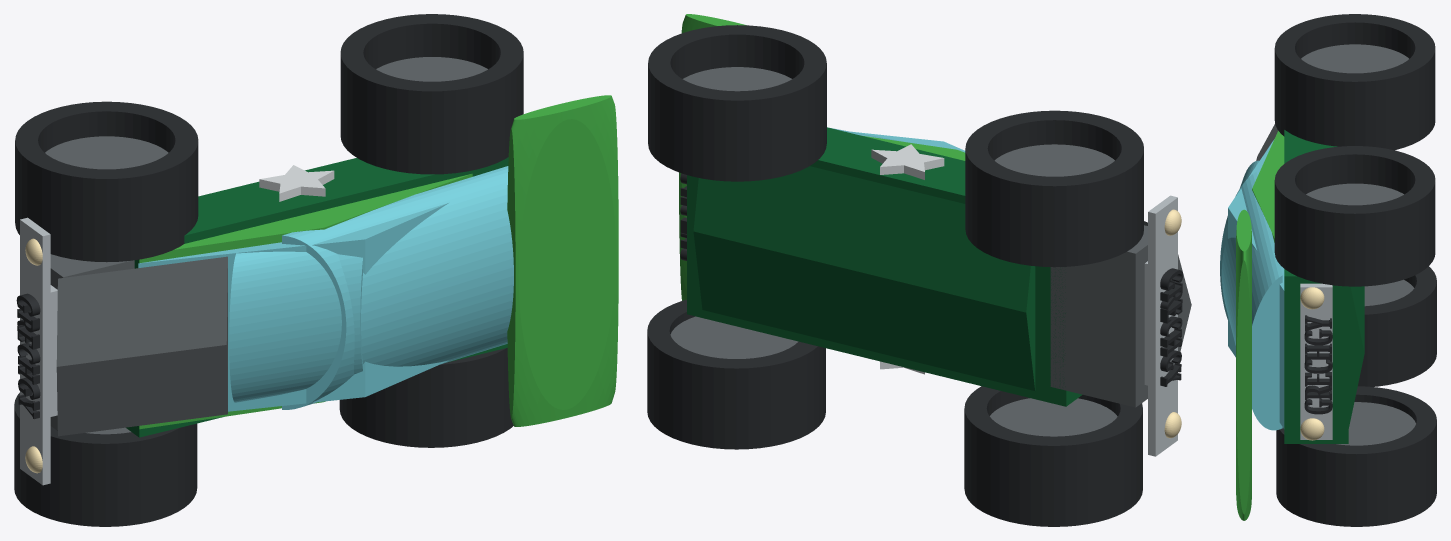
File: tinker.obj
3 views of the same model, side by side, from view 1: azimuth 30°, elevation 25°; view 2: azimuth 150°, elevation 25°; view 3: azimuth 270°, elevation 25° (orthographic). The views are drawn at different scales.
Visible parts, largest first — view 1: obj_27, obj_12, obj_10, obj_5, obj_4, obj_13, obj_0, obj_1, obj_8, obj_11, obj_20, obj_9 (+6 smaller); view 2: obj_15, obj_5, obj_4, obj_0, obj_1, obj_14, obj_8, obj_20, obj_3, obj_2, obj_7, obj_26 (+3 smaller); view 3: obj_5, obj_4, obj_1, obj_12, obj_0, obj_8, obj_27, obj_17, obj_7, obj_2, obj_25, obj_11 (+7 smaller).
Boxes of the visible parts, x1=… form: obj_27: x1=507, y1=95, x2=618, y2=426; obj_12: x1=282, y1=166, x2=513, y2=409; obj_10: x1=56, y1=256, x2=227, y2=436; obj_5: x1=340, y1=14, x2=523, y2=174; obj_4: x1=15, y1=101, x2=198, y2=262; obj_13: x1=229, y1=251, x2=362, y2=402; obj_0: x1=14, y1=392, x2=197, y2=526; obj_1: x1=339, y1=348, x2=513, y2=447; obj_8: x1=126, y1=157, x2=508, y2=437; obj_11: x1=138, y1=203, x2=448, y2=411; obj_20: x1=20, y1=217, x2=50, y2=485; obj_9: x1=139, y1=173, x2=472, y2=429; obj_15: x1=693, y1=166, x2=1035, y2=390; obj_5: x1=648, y1=25, x2=826, y2=181; obj_4: x1=965, y1=110, x2=1143, y2=267; obj_0: x1=964, y1=386, x2=1142, y2=526; obj_1: x1=647, y1=299, x2=825, y2=449; obj_14: x1=1050, y1=225, x2=1147, y2=407; obj_8: x1=687, y1=127, x2=1082, y2=406; obj_20: x1=1148, y1=195, x2=1177, y2=456; obj_3: x1=990, y1=398, x2=1117, y2=436; obj_2: x1=670, y1=316, x2=798, y2=358; obj_7: x1=994, y1=144, x2=1114, y2=176; obj_26: x1=1160, y1=268, x2=1182, y2=386; obj_5: x1=1274, y1=146, x2=1435, y2=286; obj_4: x1=1274, y1=14, x2=1435, y2=150; obj_1: x1=1276, y1=386, x2=1436, y2=526; obj_12: x1=1220, y1=172, x2=1282, y2=430; obj_0: x1=1358, y1=266, x2=1436, y2=386; obj_8: x1=1284, y1=130, x2=1348, y2=443; obj_27: x1=1236, y1=209, x2=1251, y2=520; obj_17: x1=1300, y1=283, x2=1332, y2=439; obj_7: x1=1301, y1=44, x2=1408, y2=73; obj_2: x1=1336, y1=402, x2=1415, y2=445; obj_25: x1=1304, y1=315, x2=1332, y2=414; obj_11: x1=1228, y1=139, x2=1284, y2=428.
Size of the model in its own units: 69 by 43 by 27.
